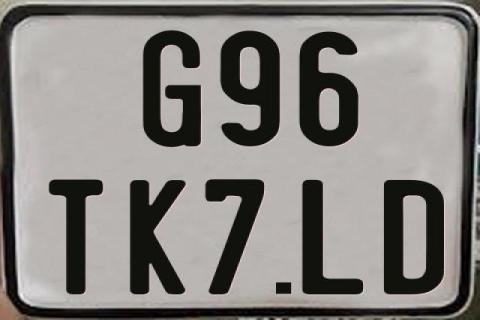0: (221, 31, 284, 149), (298, 29, 360, 145), (205, 180, 266, 296)
D: (381, 179, 445, 296)
G: (140, 30, 201, 150)
K: (127, 179, 186, 293)
L: (302, 178, 364, 294)
T: (47, 178, 102, 294)
